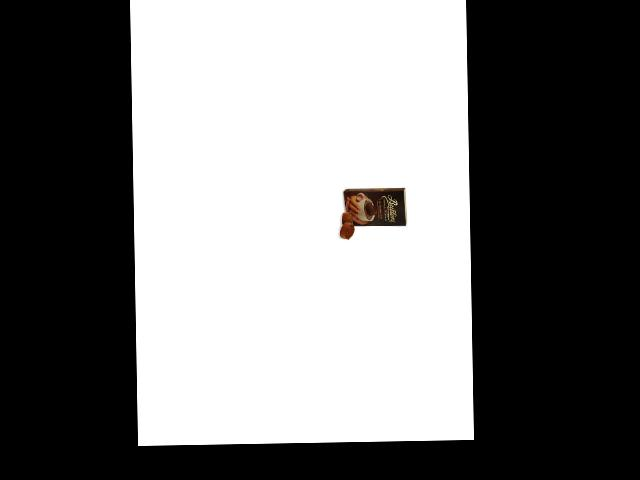chocolate: (341, 185, 409, 232)
